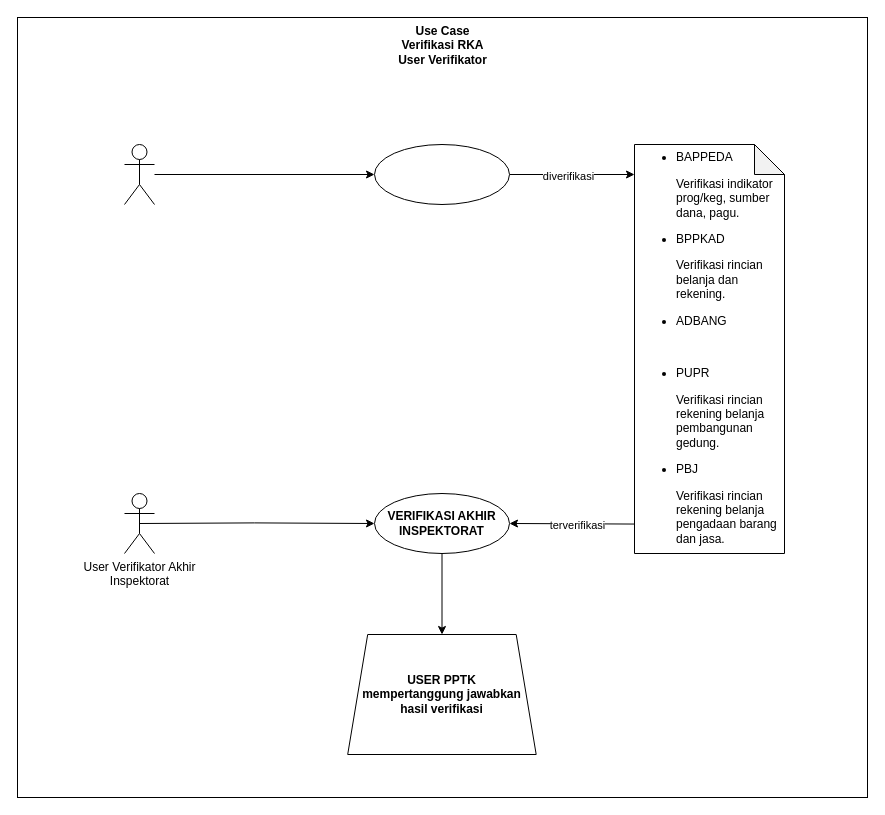
The diagram is 885 pixels wide and 815 high, and some of its shapes have lost their labels. Each missing label, with the centre of its shape:
"User Verifikator Awal - BAPPEDA - BPPKAD - ADBANG -PUPR -PBJ" goes at (x=139, y=174).
"VERIFIKASI AWAL 5 USER VERIFIKATOR" goes at (x=442, y=174).
